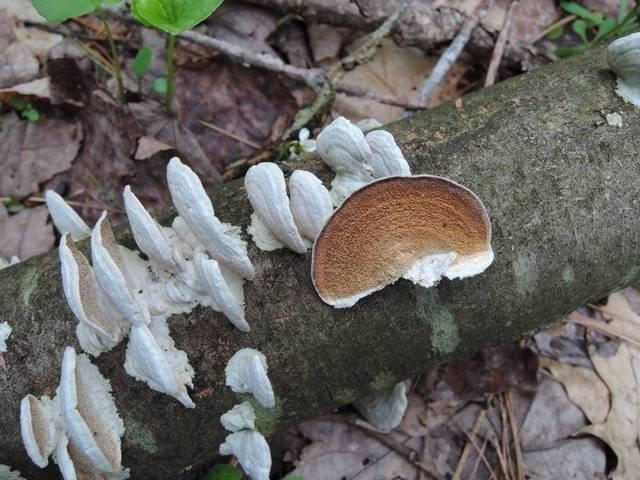Non-edible Mushroom: (22, 112, 268, 480), (309, 172, 495, 309), (236, 108, 408, 255)
